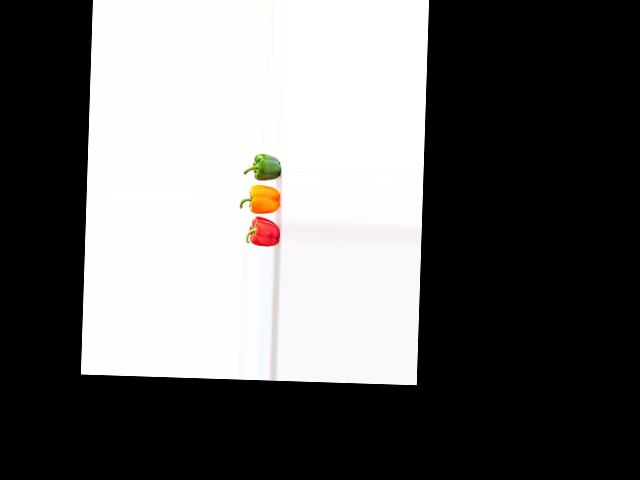bell_pepper: (238, 215, 279, 249)
